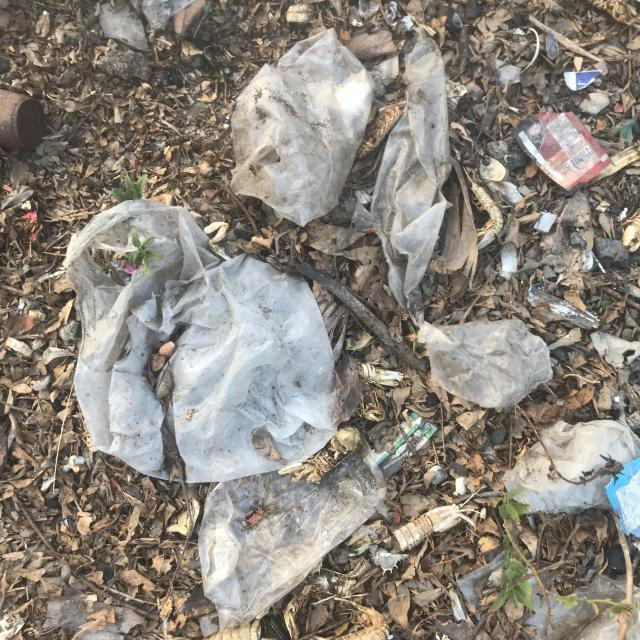Single-layer Plastic: (65, 200, 335, 482), (199, 439, 385, 630), (231, 29, 372, 225), (371, 30, 451, 325), (419, 319, 552, 408), (504, 442, 611, 514), (539, 420, 640, 481)
